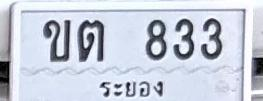3: (200, 18, 223, 60), (173, 18, 194, 60)
8: (145, 19, 167, 60)
A02: (42, 19, 71, 62)
A21: (78, 19, 104, 62)
RYG: (96, 76, 170, 101)
